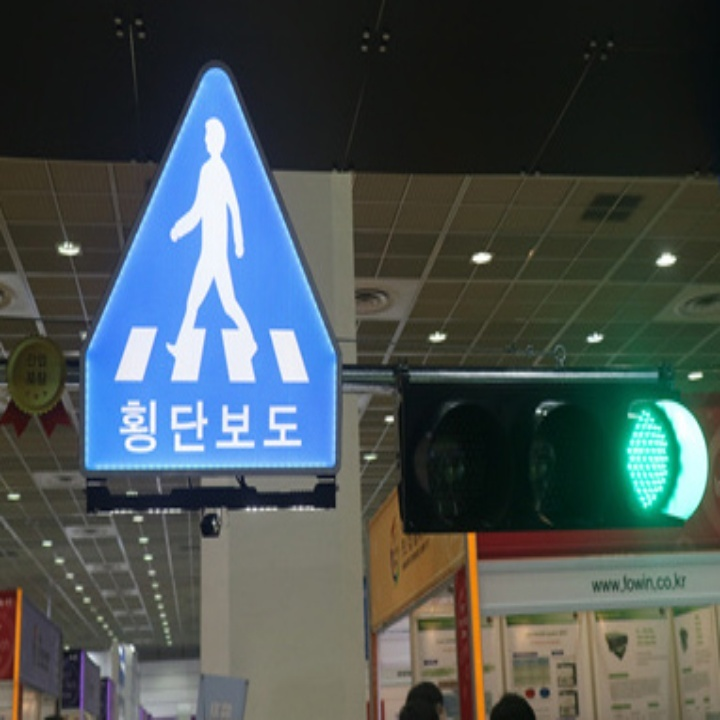cross: (148, 109, 259, 368)
